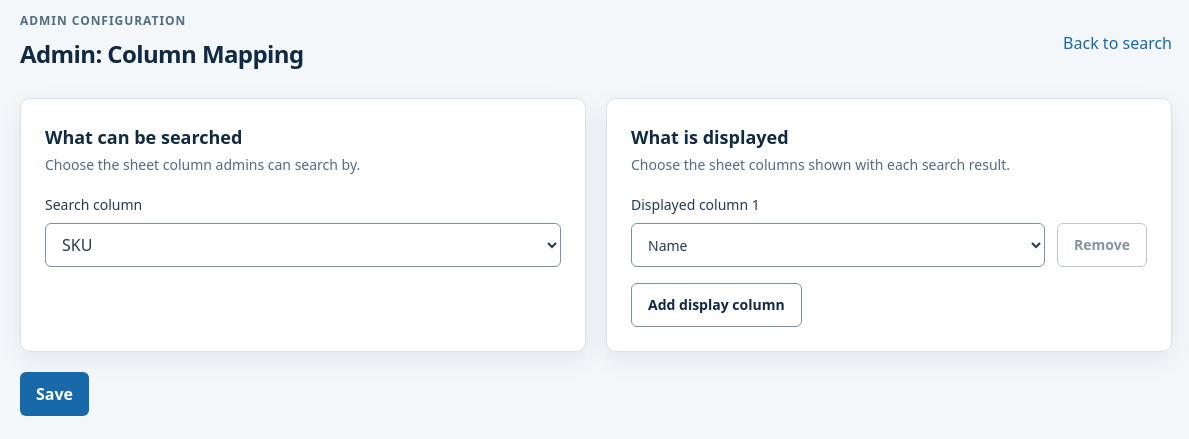
Test case: AdminPage › clears Saved. after the saved search or display mapping is edited
Expected: the dropdown labelled "Search column" is shown, [45,223,561,267]
Click the button "Save": (54, 394) [20,372,89,416]
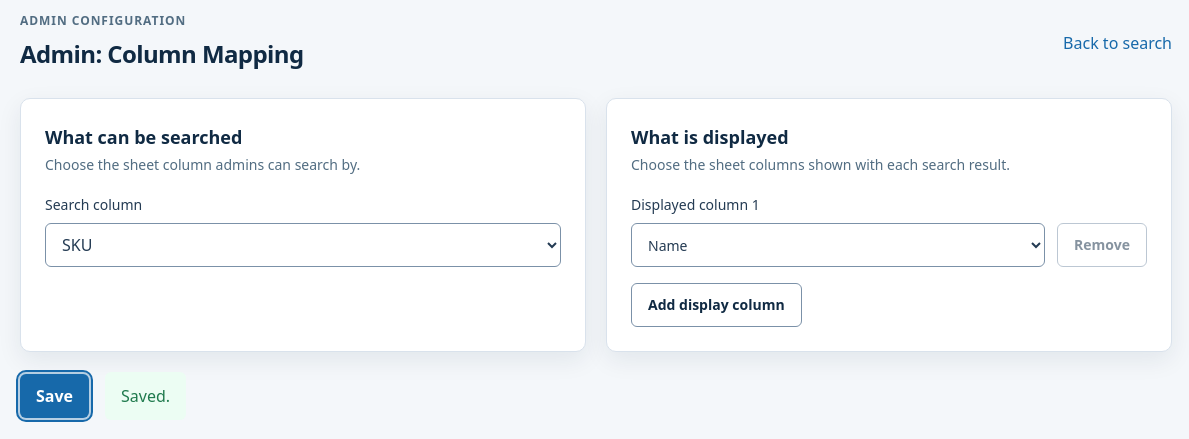
Expected: the text "Saved." is shown, [105,372,186,420]
Select "Price" in the dropdown labelled "Displayed column 1": (838, 245) [631,223,1045,267]
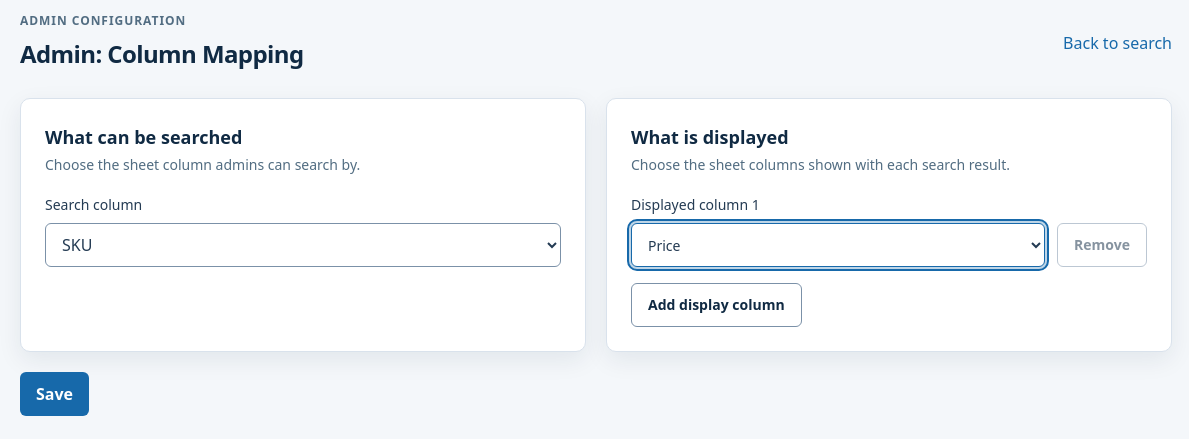
Expected: the text "Saved." is gone
Click the button "Save": (54, 394) [20,372,89,416]
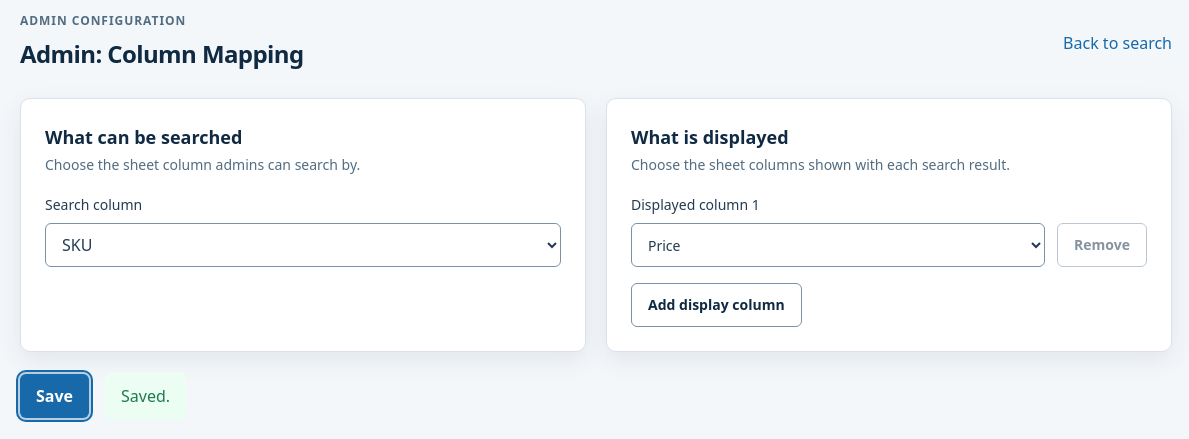
Expected: the text "Saved." is shown, [105,372,186,420]
Select "Color" in the dropdown labelled "Search column": (303, 245) [45,223,561,267]
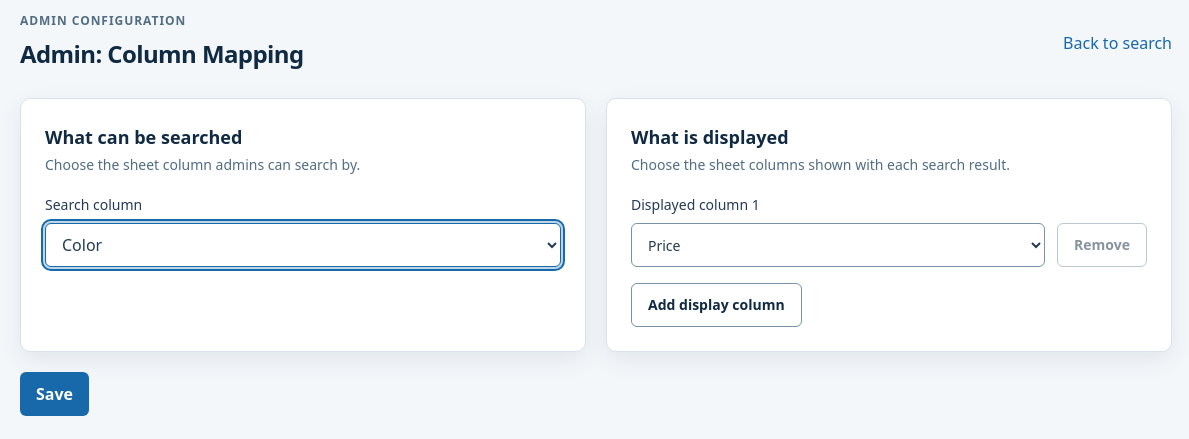
Expected: the text "Saved." is gone
